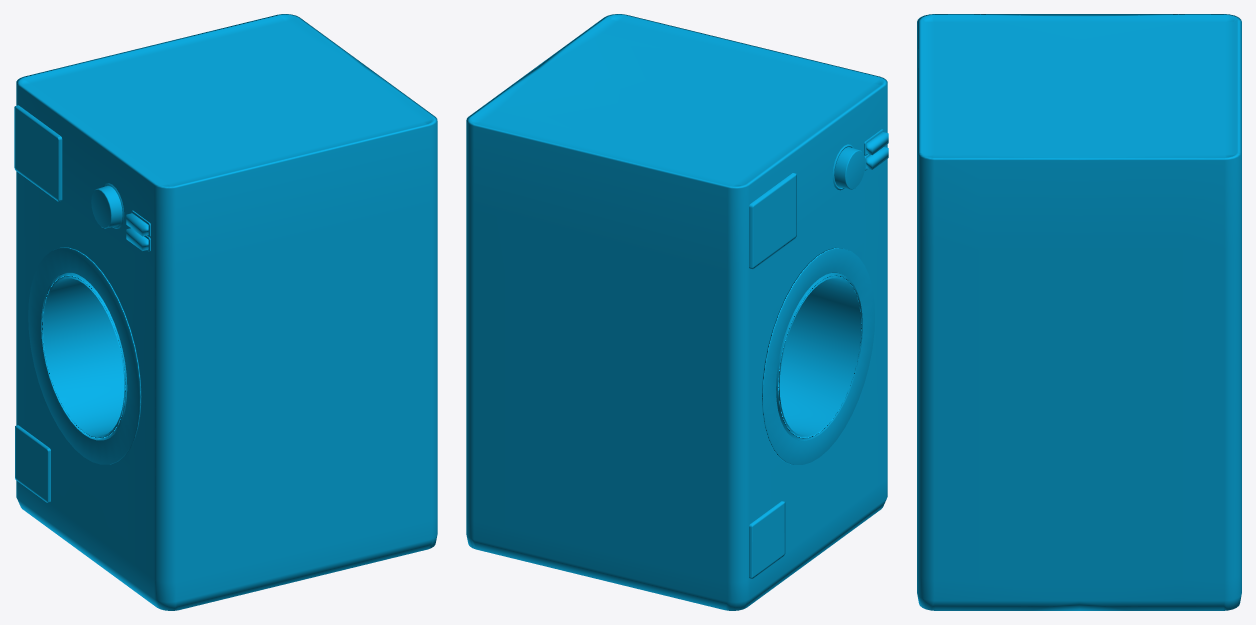
File: Washing_Machine_Lod0.fbx
3 views of the same model, side by side, from view 1: azimuth 30°, elevation 25°; view 2: azimuth 150°, elevation 25°; view 3: azimuth 270°, elevation 25° (orthographic). The views are drawn at different scales.
Parts seen in each view (by area): view 1: Washing_Machine_Lod0; view 2: Washing_Machine_Lod0; view 3: Washing_Machine_Lod0.
Boxes of the visible parts, x1,y1,x2,y2 form: Washing_Machine_Lod0: [14, 14, 437, 610]; Washing_Machine_Lod0: [466, 14, 888, 610]; Washing_Machine_Lod0: [917, 14, 1241, 610].
Bounding box in the file's own units: 66.8 × 92.39 × 60.15.
